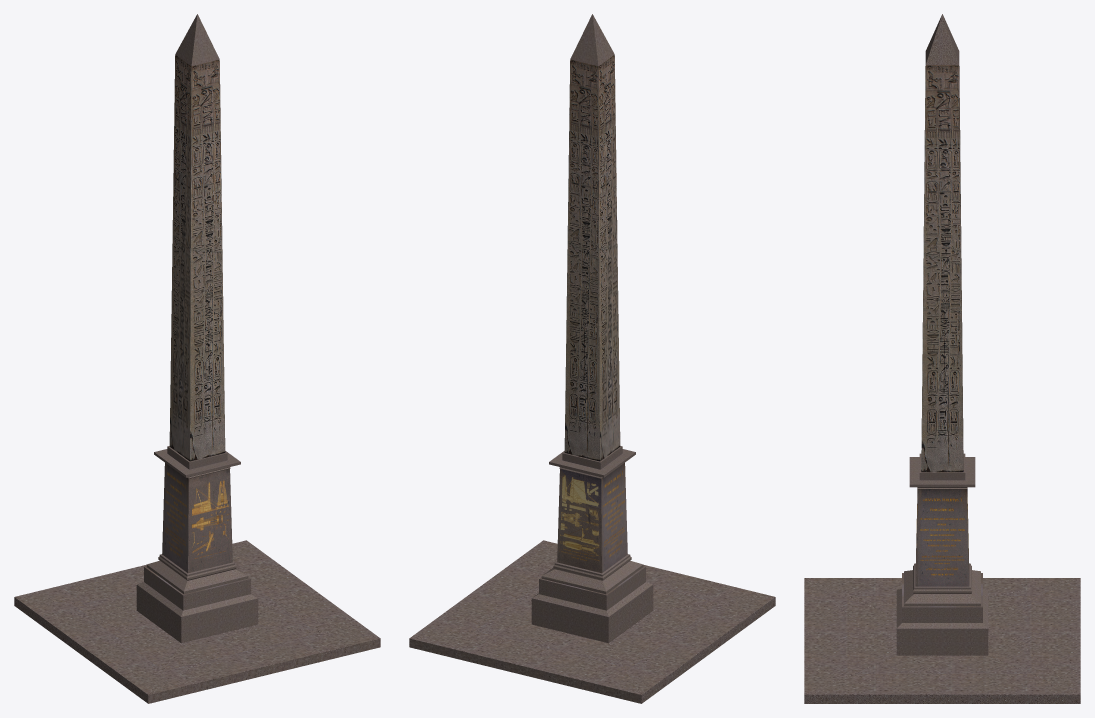
File: LuxorObelix.FBX
3 renders of one model, left to right at view 1: azimuth 30°, elevation 25°; view 2: azimuth 150°, elevation 25°; view 3: azimuth 270°, elevation 25°, orthographic. The views are drawn at different scales.
Visible parts, largest first — view 1: Box001; view 2: Box001; view 3: Box001.
Part boxes in pixels (x1,y1,x2,y2): Box001: (14,14,380,703); Box001: (409,14,775,703); Box001: (804,14,1080,703).
Bounding box in the file's own units: 421 × 1061 × 421.
Materials: 1 (1 with a texture image).
